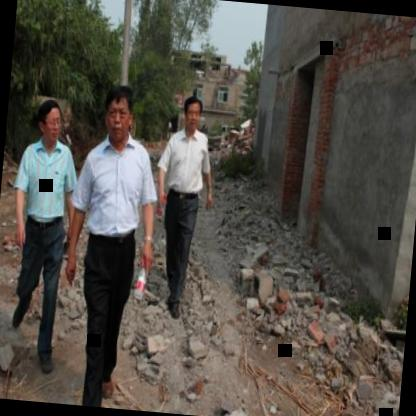head: (101, 80, 138, 146), (32, 96, 66, 148), (177, 90, 209, 143)
